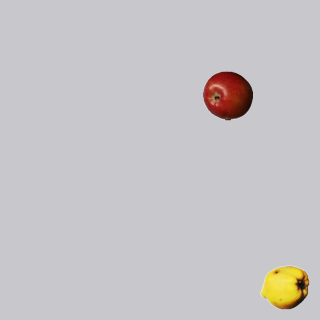Apple Braeburn: (202, 70, 252, 120)
Quince: (259, 262, 309, 312)
